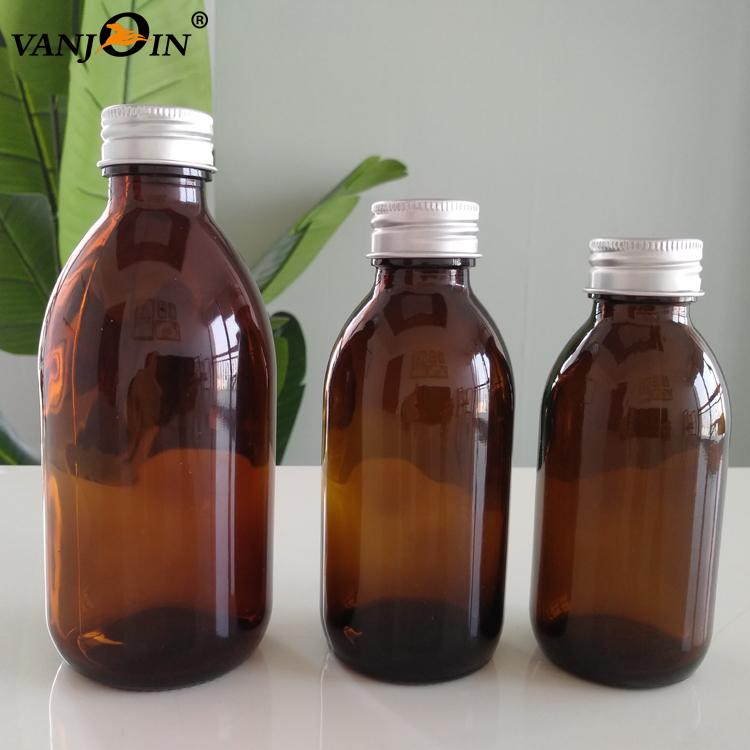glass: (35, 103, 278, 690), (321, 199, 510, 683), (535, 234, 730, 691)
